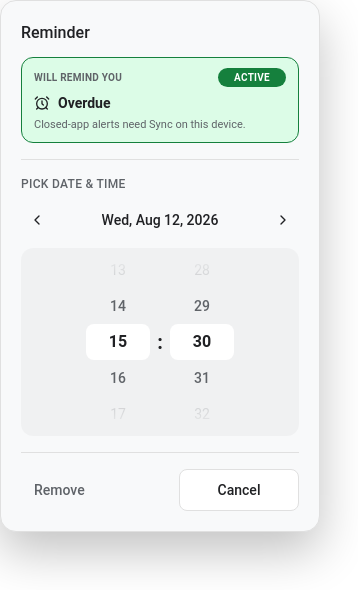
Test: ReminderPicker date and time controls › opens day, month, and year wheels when the date label is pressed
(page scrolled)
Click the button with aria-label "Choose date": (160, 220) [57,204,263,236]
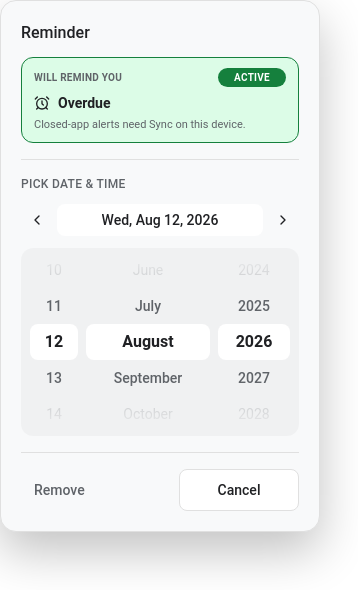
Now the list named "Year" is shown, box [236,262,272,422]
Now the list "Minute" is gone
